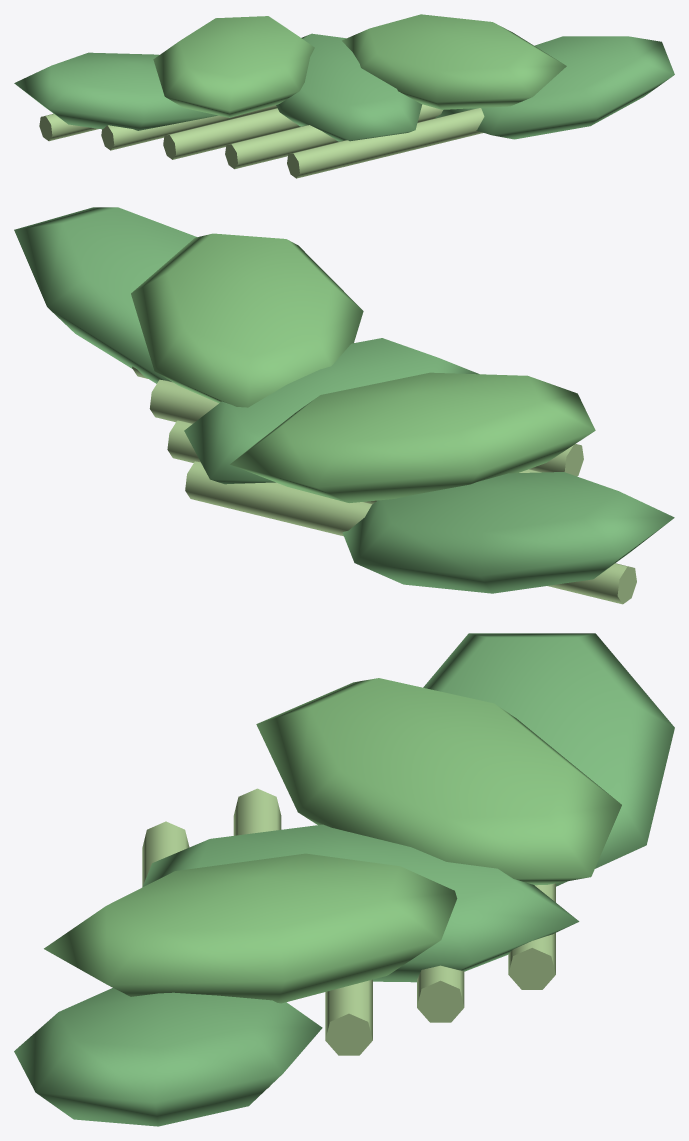
File: spinach.glb
3 views of the same model, one above another, from view 1: azimuth 30°, elevation 25°; view 2: azimuth 150°, elevation 25°; view 3: azimuth 270°, elevation 25° (orthographic). The views are drawn at different scales.
Visible parts, largest first — view 1: leaf_3, leaf_1, leaf_4, leaf_0, leaf_2, stem_4, stem_2, stem_3, stem_1, stem_0; view 2: leaf_1, leaf_3, leaf_0, leaf_4, leaf_2, stem_0, stem_2, stem_3, stem_1; view 3: leaf_1, leaf_3, leaf_4, leaf_0, leaf_2, stem_2, stem_1, stem_0, stem_3, stem_4.
Boxes of the visible parts, x1,y1,x2,y2 form: leaf_3: [342, 14, 566, 109]; leaf_1: [153, 16, 314, 117]; leaf_4: [435, 36, 674, 139]; leaf_0: [14, 52, 217, 130]; leaf_2: [276, 33, 422, 141]; stem_4: [287, 108, 484, 178]; stem_2: [163, 108, 300, 159]; stem_3: [225, 104, 442, 169]; stem_1: [101, 105, 277, 150]; stem_0: [39, 113, 98, 141]; leaf_1: [230, 372, 595, 502]; leaf_3: [131, 233, 363, 407]; leaf_0: [342, 472, 674, 593]; leaf_4: [14, 207, 196, 383]; leaf_2: [184, 338, 479, 484]; stem_0: [185, 461, 636, 604]; stem_2: [149, 379, 541, 472]; stem_3: [132, 366, 583, 476]; stem_1: [167, 420, 377, 503]; leaf_1: [256, 678, 621, 885]; leaf_3: [44, 853, 457, 1003]; leaf_4: [14, 988, 322, 1126]; leaf_0: [423, 633, 674, 886]; leaf_2: [142, 824, 579, 982]; stem_2: [325, 979, 372, 1055]; stem_1: [417, 965, 464, 1022]; stem_0: [508, 883, 555, 989]; stem_3: [233, 788, 281, 1088]; stem_4: [142, 821, 189, 886].
Bounding box in the file's own units: 0.5475 × 0.0884 × 0.3249.
